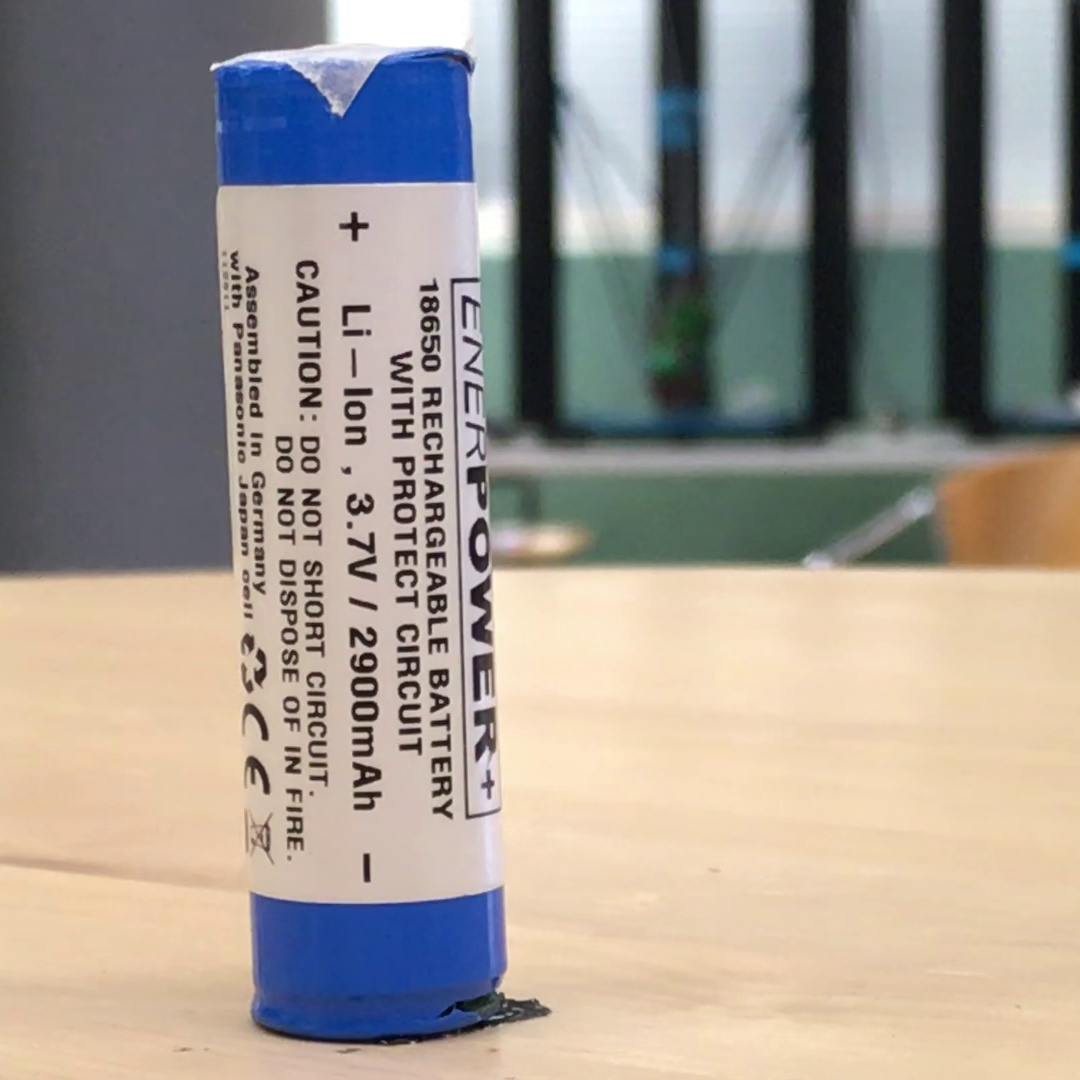keyword: (336, 483, 387, 589)
